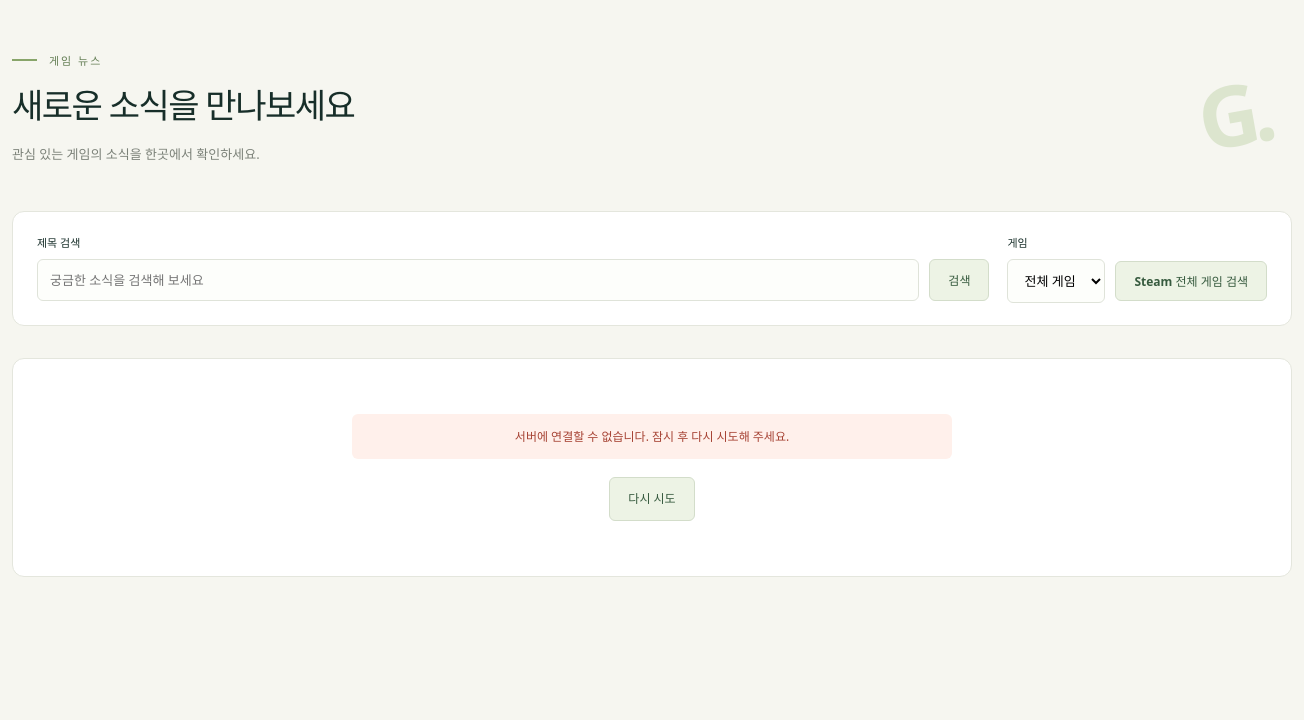
Test case: 로그인 후 저장한 글 열람 › 빈목록과통신실패후재시도를안내한다
Expected: the message shows "서버에 연결할 수 없습니다", 515,428 -> 789,445
Click the button "다시 시도": coordinates (652, 499) 609,477 -> 695,521
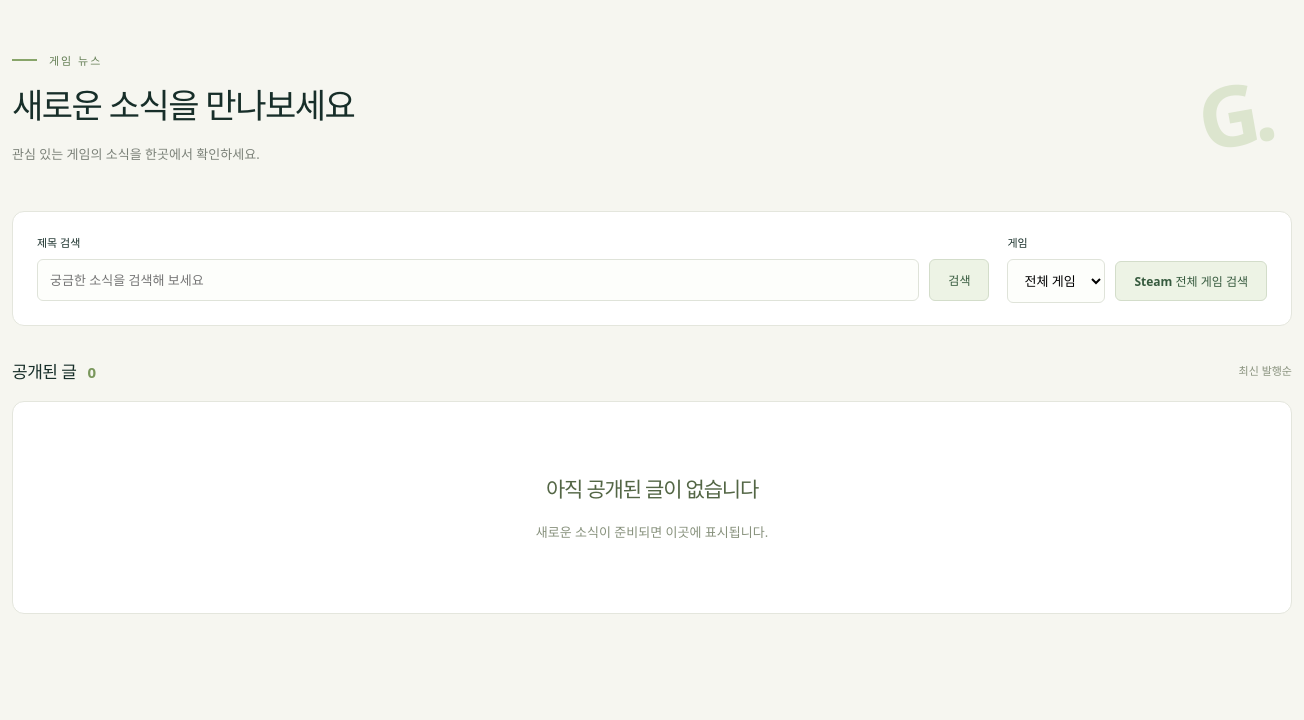
Expected: the heading "아직 공개된 글이 없습니다" is shown, 546,475 -> 758,503
